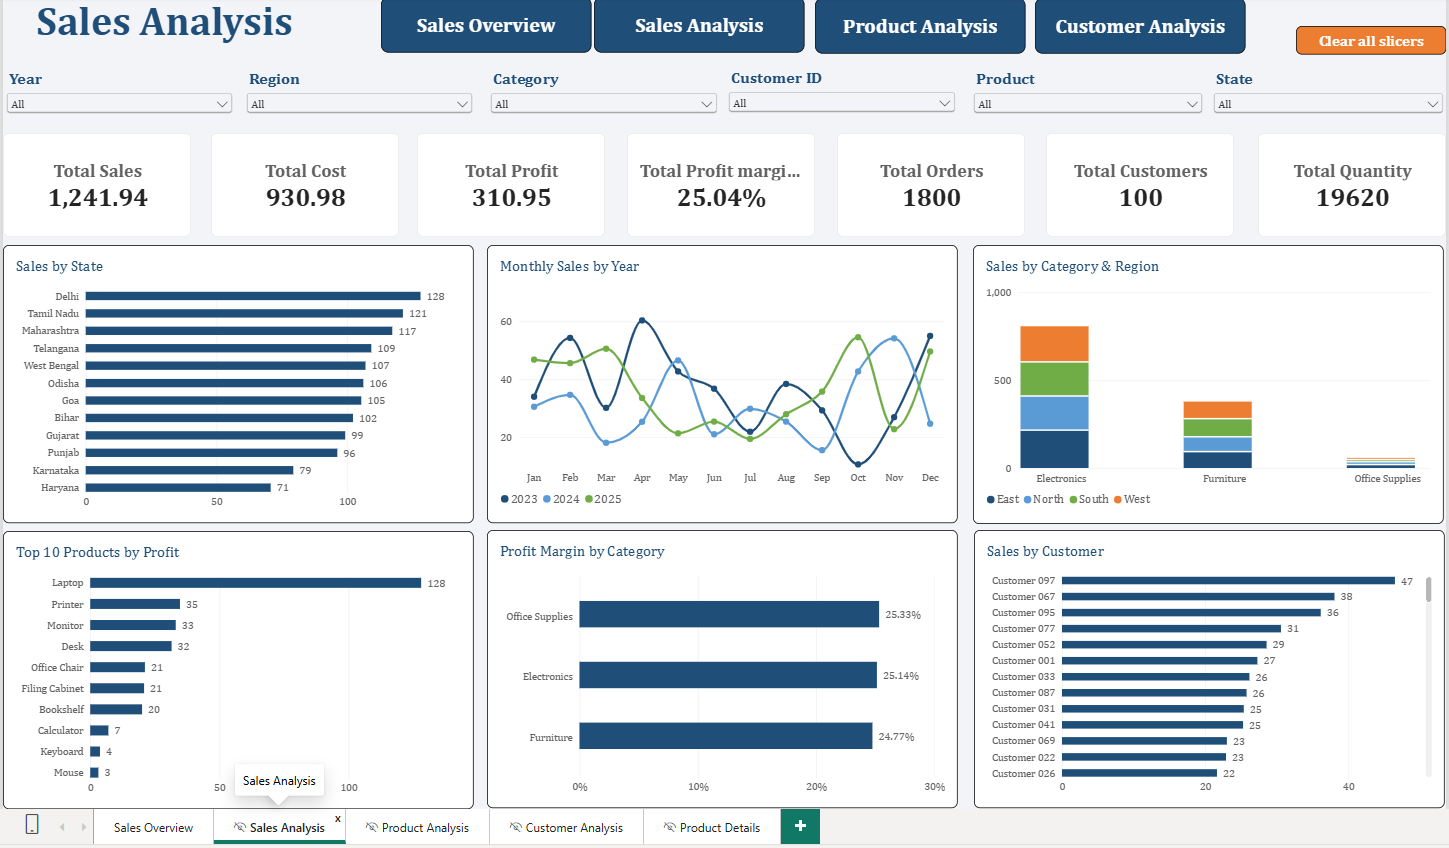

The page's visual inventory and layout, read from the dashboard file:
{"tool":"powerbi","page":{"name":"Sales Analysis","canvas":[1920,1080],"ordinal":1},"visuals":[{"type":"slicer","fields":{"Values":["Dim_Date.Year"]},"box":[0,87.5,310,93.7],"z":0},{"type":"slicer","fields":{"Values":["Sales_Data.Region"]},"box":[319.5,87.5,310.3,93.7],"z":1000},{"type":"slicer","fields":{"Values":["Product_Master.Category"]},"box":[643.4,87.5,310.8,93.4],"z":2000},{"type":"slicer","fields":{"Values":["Sales_Data.State"]},"box":[1605.4,88,315,93.7],"z":3000},{"type":"cardVisual","title":"Total Sales ","fields":{"Data":["Sales_Data.Total Sales (lakh)"]},"box":[0,180.9,250,139],"z":4000},{"type":"cardVisual","title":"Total Sales ","fields":{"Data":["Sales_Data.total cost (lakh)"]},"box":[277.2,180.9,250,139],"z":5000},{"type":"cardVisual","title":"Total Sales ","fields":{"Data":["Sales_Data.Total Profit (lakh)"]},"box":[550,180.9,250,139],"z":6000},{"type":"cardVisual","title":"Total Sales ","fields":{"Data":["Sales_Data.Total Profit margin %"]},"box":[830.2,180.9,250,139],"z":7000},{"type":"cardVisual","title":"Total Sales ","fields":{"Data":["Sales_Data.Total Orders"]},"box":[1108.8,180.9,250,139],"z":8000},{"type":"cardVisual","title":"Total Sales ","fields":{"Data":["Sales_Data.Total Customers"]},"box":[1387.5,180.9,250,139],"z":9000},{"type":"cardVisual","title":"Total Sales ","fields":{"Data":["Sales_Data.Total Quantity"]},"box":[1669.1,180.9,250,139],"z":10000},{"type":"actionButton","box":[1720.1,37.9,199.9,37.9],"z":11000},{"type":"actionButton","box":[502.9,0,280,74.4],"z":12000},{"type":"actionButton","box":[786.4,0,280,74.4],"z":13000},{"type":"actionButton","box":[1079.6,1.5,280,74.4],"z":14000},{"type":"actionButton","box":[1372.9,1.5,280,74.4],"z":15000},{"type":"textbox","box":[11.7,0,405.6,75.9],"z":16000},{"type":"slicer","fields":{"Values":["Product_Master.Product"]},"box":[1285.7,87.6,314.3,93.3],"z":17000},{"type":"clusteredBarChart","title":"Sales by State","fields":{"Category":["Sales_Data.State"],"Y":["Sales_Data.Total Sales (lakh)"]},"box":[0,329.7,626,370],"z":18000},{"type":"lineChart","title":"Monthly Sales by Year","fields":{"Category":["Dim_Date.Month"],"Y":["Sales_Data.Total Sales (lakh)"],"Series":["Dim_Date.Year"]},"box":[643.4,329.7,626,370],"z":19000},{"type":"columnChart","title":"Sales by Category & Region","fields":{"Category":["Product_Master.Category"],"Y":["Sales_Data.Total Sales (lakh)"],"Series":["Sales_Data.Region"]},"box":[1290.7,329.9,625.9,370.6],"z":20000},{"type":"barChart","title":"Top 10 Products by Profit","fields":{"Category":["Product_Master.Product"],"Y":["Sales_Data.Total Profit (lakh)"]},"box":[0,710,626,370],"z":21000},{"type":"clusteredBarChart","title":"Profit Margin by Category","fields":{"Category":["Product_Master.Category"],"Y":["Sales_Data.Total Profit margin %"]},"box":[643.4,709.1,626,370],"z":22000},{"type":"barChart","title":"Sales by Customer","fields":{"Category":["Customer_Master.Customer Name"],"Y":["Sales_Data.Total Sales (lakh)"]},"box":[1291,709,626,370],"z":23000},{"type":"slicer","fields":{"Values":["Customer_Master.Customer ID"]},"box":[960.8,86.3,310.8,93.4],"z":24000}]}

Visuals, with their boxes on the page's 1920x1080 design canvas (x1, y1, x2, y2). These are canvas units, not pixel positions in the 1449x848 screenshot, which may show the page scaled, cropped or inside an application window:
slicer - Dim_Date.Year: (0, 88, 310, 181)
slicer - Sales_Data.Region: (320, 88, 630, 181)
slicer - Product_Master.Category: (643, 88, 954, 181)
slicer - Sales_Data.State: (1605, 88, 1920, 182)
"Total Sales " cardVisual: (0, 181, 250, 320)
"Total Sales " cardVisual: (277, 181, 527, 320)
"Total Sales " cardVisual: (550, 181, 800, 320)
"Total Sales " cardVisual: (830, 181, 1080, 320)
"Total Sales " cardVisual: (1109, 181, 1359, 320)
"Total Sales " cardVisual: (1388, 181, 1638, 320)
"Total Sales " cardVisual: (1669, 181, 1919, 320)
actionButton: (1720, 38, 1920, 76)
actionButton: (503, 0, 783, 74)
actionButton: (786, 0, 1066, 74)
actionButton: (1080, 2, 1360, 76)
actionButton: (1373, 2, 1653, 76)
textbox: (12, 0, 417, 76)
slicer - Product_Master.Product: (1286, 88, 1600, 181)
"Sales by State" clusteredBarChart: (0, 330, 626, 700)
"Monthly Sales by Year" lineChart: (643, 330, 1269, 700)
"Sales by Category & Region" columnChart: (1291, 330, 1917, 700)
"Top 10 Products by Profit" barChart: (0, 710, 626, 1080)
"Profit Margin by Category" clusteredBarChart: (643, 709, 1269, 1079)
"Sales by Customer" barChart: (1291, 709, 1917, 1079)
slicer - Customer_Master.Customer ID: (961, 86, 1272, 180)
